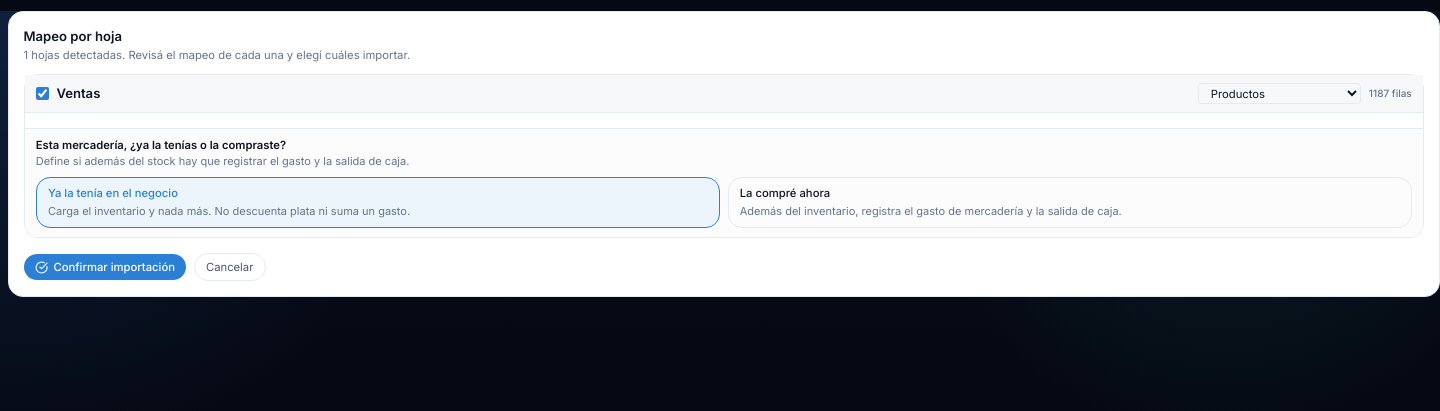
ColumnMapperPanel — corregir una hoja mal clasificada › con la compuerta prendida, el confirm sincrónico no se usa
The image size is (1440, 411).
Click the button "Confirmar importación".
click(105, 267)  # box [24,254,186,280]
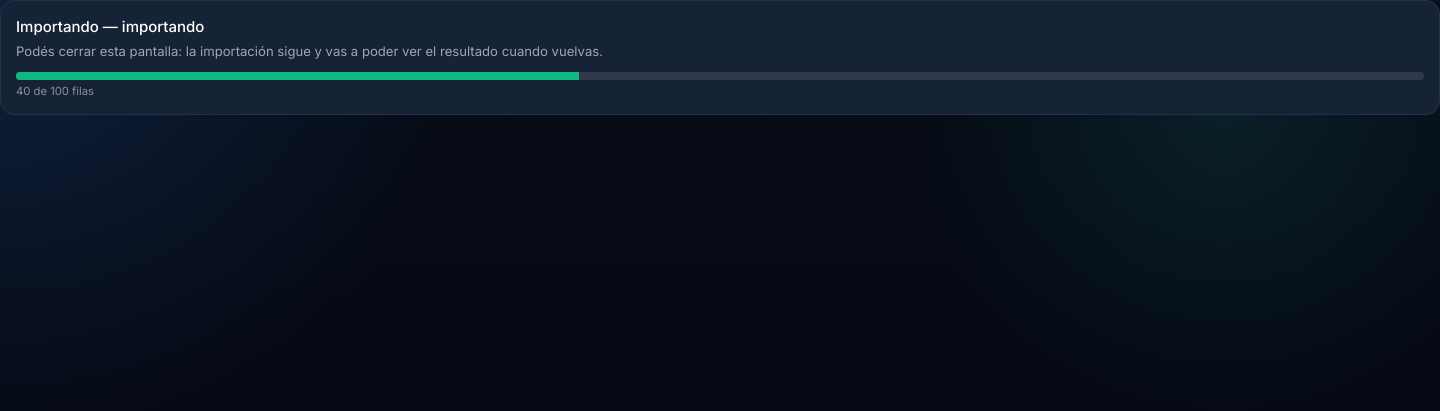
Check: the text "Podés cerrar esta pantalla" is shown, box [16,43,603,59]
